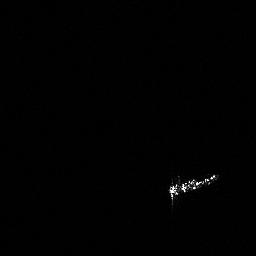ship: (165, 169, 224, 203)
